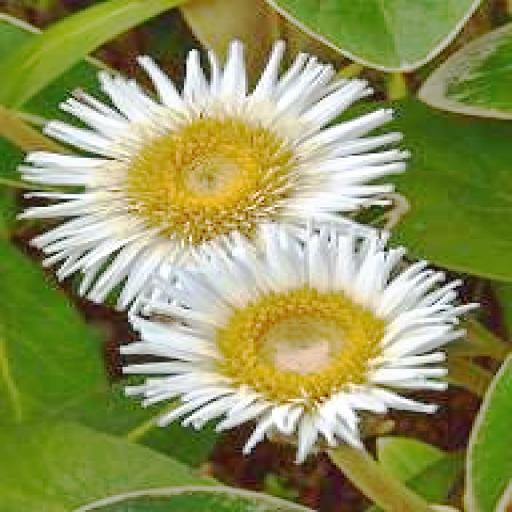daisy: (27, 53, 392, 284), (141, 252, 448, 439)
